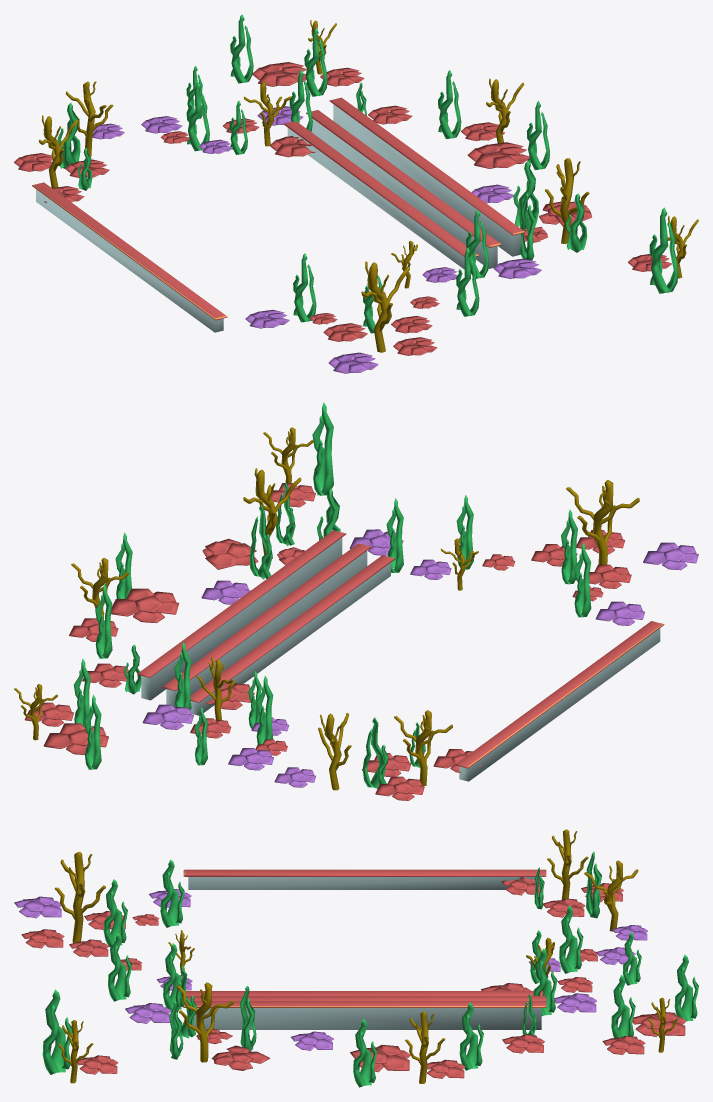
File: Environment .fbx
The picture shows the model from 3 angles, top to bottom: view 1: azimuth 30°, elevation 25°; view 2: azimuth 150°, elevation 25°; view 3: azimuth 270°, elevation 25°; orthographic projection. The views are drawn at different scales.
Parts seen in each view (by area): view 1: Tribune.002, Tribune.001, Tribune.003, Tribune, Cylinder.055, Cylinder.086, Cylinder.020; view 2: Tribune.002, Tribune.003, Tribune.001, Tribune, Cylinder.055, Cylinder.086; view 3: Tribune.002, Tribune.003, Tribune.001, Tribune, Cylinder.055, Cylinder.020, Cylinder.086, Cylinder.088, Cylinder.110, Cylinder.041, Cylinder.089, Cylinder.009 (+6 smaller).
Boxes of the visible parts, x1,y1,x2,y2 form: Tribune.002: (329, 97, 525, 256); Tribune.001: (306, 110, 501, 268); Tribune.003: (32, 182, 227, 332); Tribune: (283, 121, 479, 269); Cylinder.055: (367, 262, 388, 352); Cylinder.086: (651, 207, 668, 293); Cylinder.020: (560, 158, 573, 244); Tribune.002: (137, 530, 346, 700); Tribune.003: (455, 621, 664, 781); Tribune.001: (162, 543, 371, 707); Tribune: (190, 555, 395, 715); Cylinder.055: (593, 480, 613, 564); Cylinder.086: (317, 402, 333, 495); Tribune.002: (183, 1001, 546, 1029); Tribune.003: (183, 869, 546, 889); Tribune.001: (186, 996, 546, 1000); Tribune: (186, 991, 543, 995); Cylinder.055: (72, 852, 84, 942); Cylinder.020: (196, 982, 212, 1062); Cylinder.086: (45, 989, 65, 1072); Cylinder.088: (42, 1005, 59, 1074); Cylinder.110: (607, 860, 622, 931); Cylinder.041: (419, 1011, 428, 1083); Cylinder.089: (355, 1019, 371, 1085); Cylinder.009: (110, 933, 126, 999).
Bounding box in the file's own units: 5087 × 3653 × 775.
